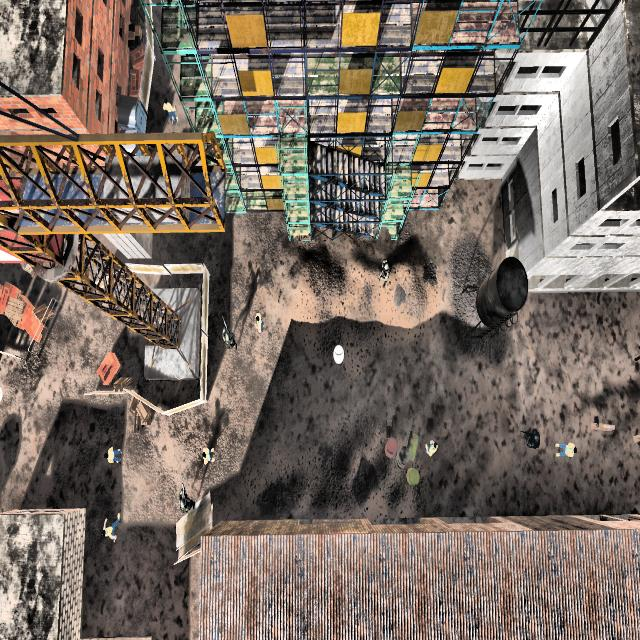bad: (518, 412, 544, 461), (173, 478, 199, 520), (219, 316, 239, 364), (374, 251, 394, 293)
good: (552, 431, 579, 464), (99, 512, 124, 543), (160, 94, 180, 132), (104, 436, 125, 472), (199, 436, 219, 473), (249, 304, 268, 340), (420, 436, 439, 466)
